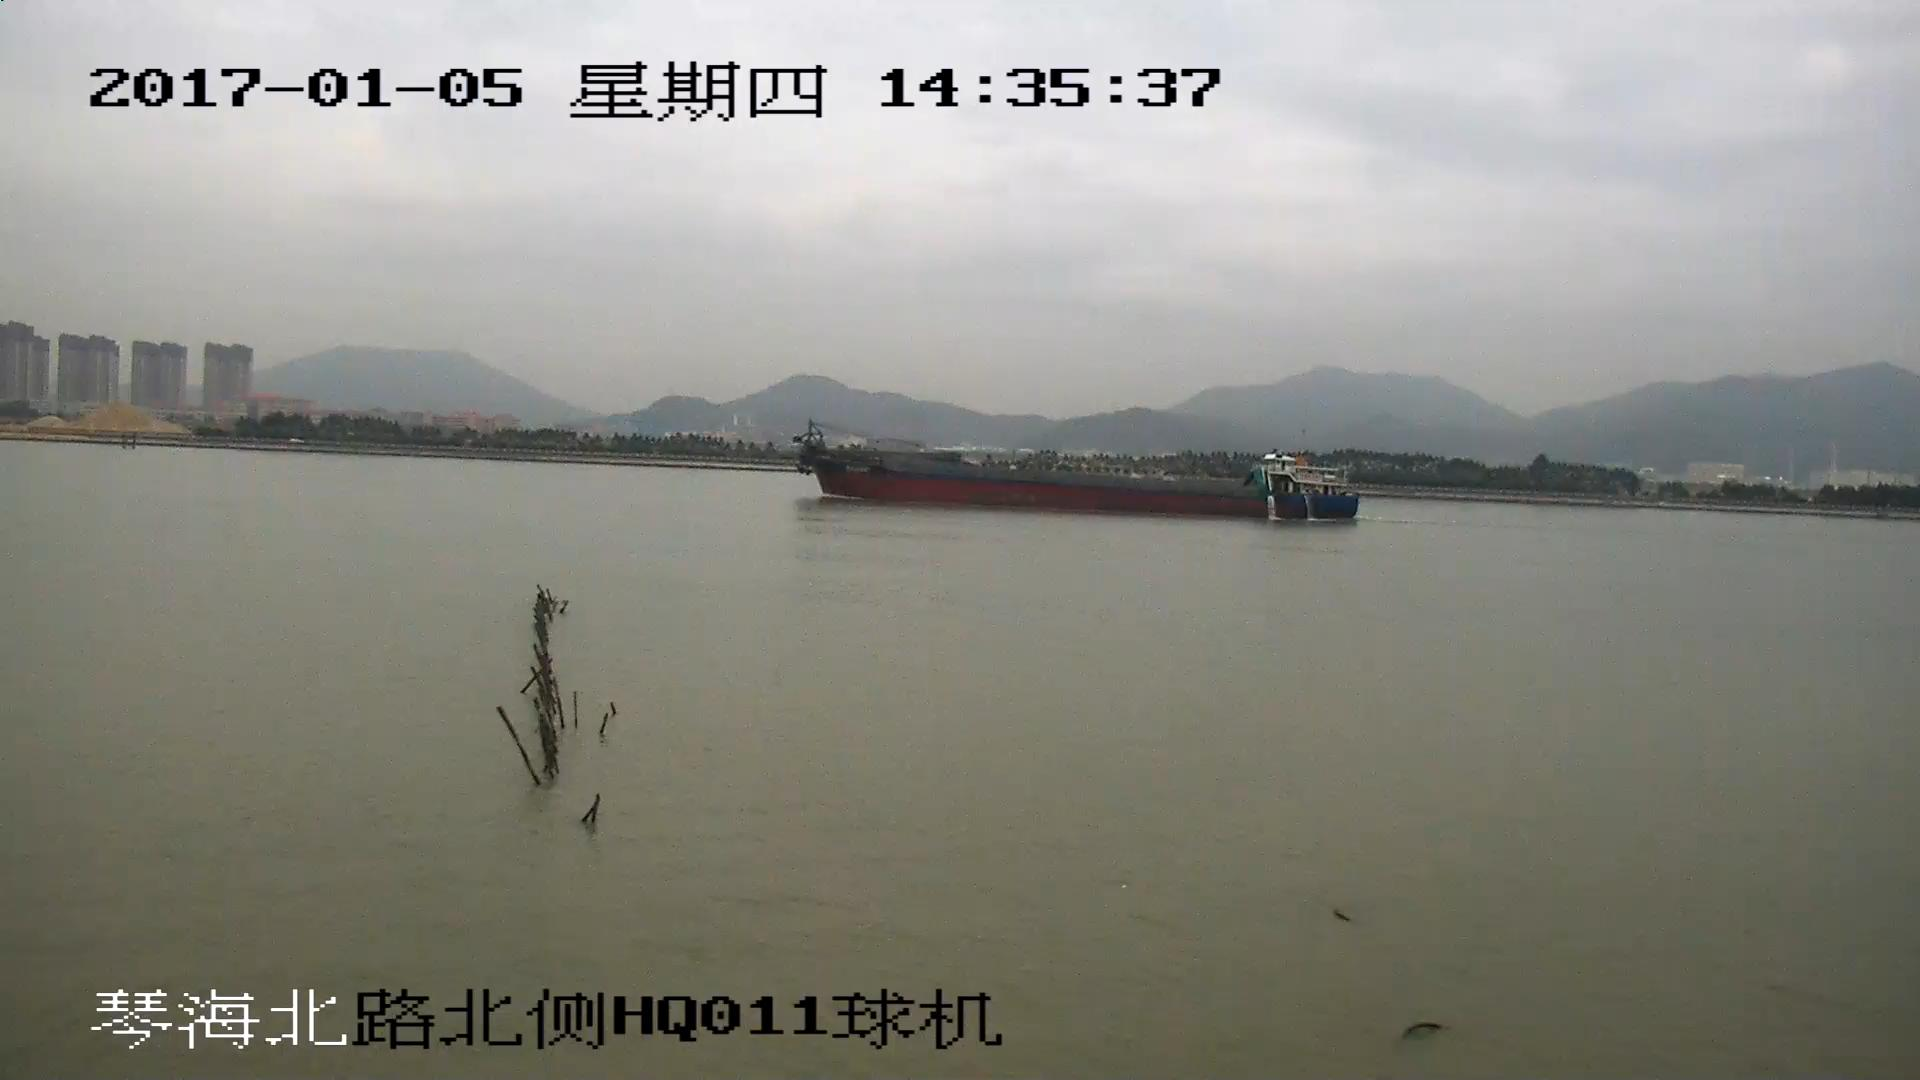bulk cargo carrier: (793, 421, 1356, 520)
